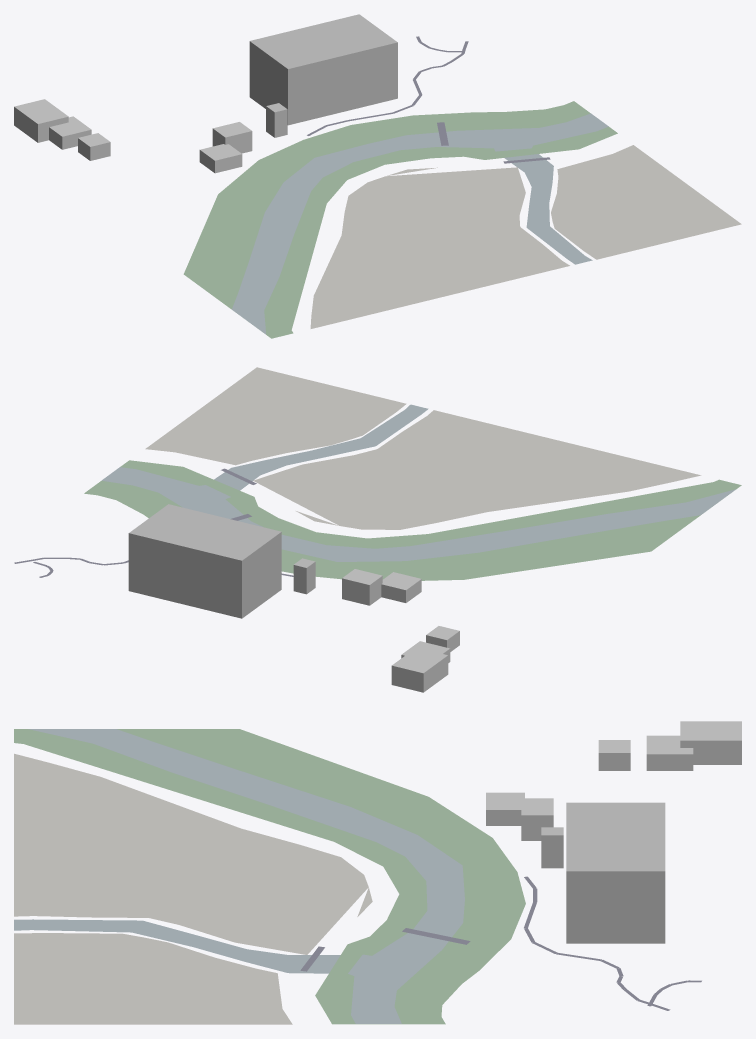
The model's file is 114_115_mid.glb.
The picture shows the model from 3 angles, top to bottom: view 1: azimuth 30°, elevation 25°; view 2: azimuth 150°, elevation 25°; view 3: azimuth 270°, elevation 25°; orthographic projection. The views are drawn at different scales.
Size of the model in its own units: 500 by 57.66 by 521.
